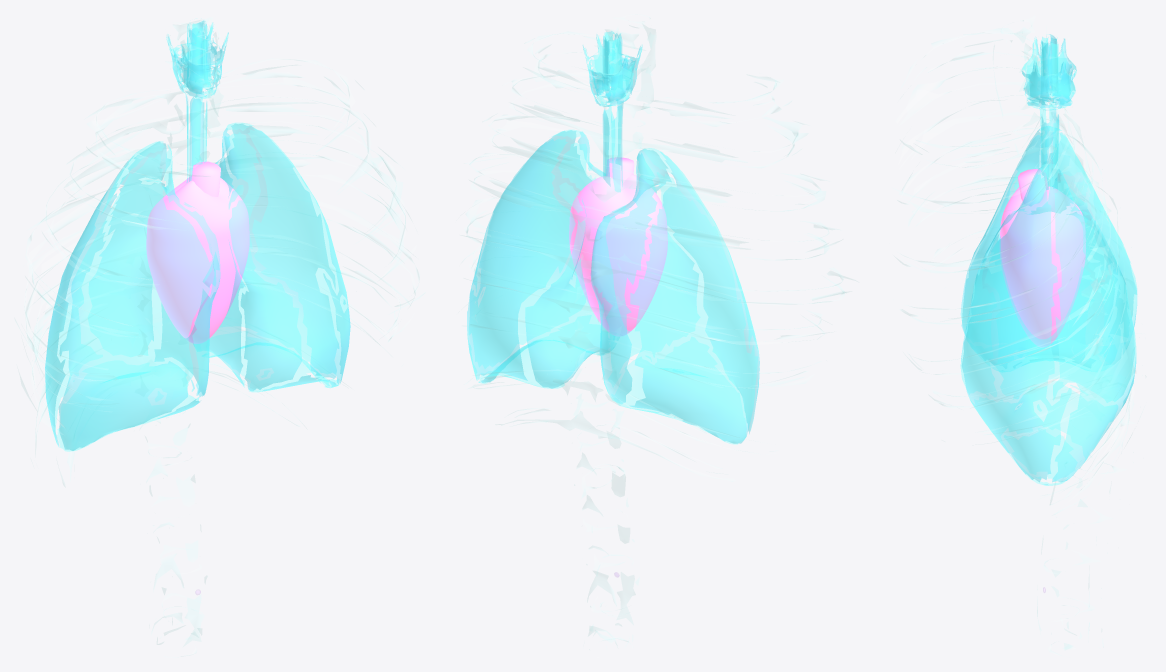
File: heart-anatomical-responding-3.glb
3 views of the same model, side by side, from view 1: azimuth 30°, elevation 25°; view 2: azimuth 150°, elevation 25°; view 3: azimuth 270°, elevation 25° (orthographic). The views are drawn at different scales.
Parts seen in each view (by area): view 1: Lungs, Ribcage, Heart, AortaAnat; view 2: Lungs, Ribcage, Heart, AortaAnat; view 3: Lungs, Ribcage, Heart, AortaAnat.
Boxes of the visible parts, box(x1,y1,x2,y2) form: Lungs: box(45, 20, 350, 451); Ribcage: box(15, 17, 424, 655); Heart: box(146, 176, 249, 343); AortaAnat: box(191, 161, 220, 196); Lungs: box(467, 31, 759, 444); Ribcage: box(464, 14, 855, 647); Heart: box(569, 174, 667, 336); AortaAnat: box(606, 157, 634, 185); Lungs: box(960, 34, 1137, 485); Ribcage: box(896, 16, 1136, 654); Heart: box(1000, 186, 1085, 347); AortaAnat: box(1018, 169, 1047, 205).
Bounding box in the file's own units: 1.21 × 1.94 × 0.7414.
